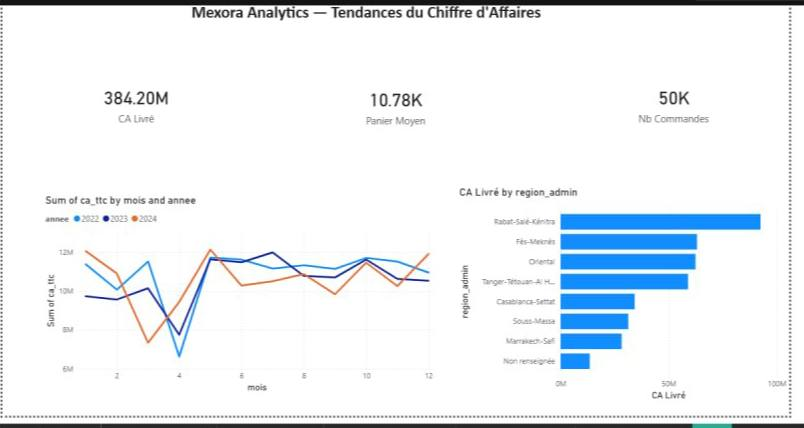

The page's visual inventory and layout, read from the dashboard file:
{"tool":"powerbi","page":{"name":"Tendances CA","canvas":[1280,720],"ordinal":0},"visuals":[{"type":"card","fields":{"Values":["FAIT_VENTES.CA Livré"]},"box":[24.4,126.9,385.5,170.8],"z":0},{"type":"card","fields":{"Values":["FAIT_VENTES.Nb Commandes"]},"box":[902.7,130.1,377.4,164.3],"z":1000},{"type":"card","fields":{"Values":["FAIT_VENTES.Panier Moyen"]},"box":[409.9,133.4,458.7,164.3],"z":2000},{"type":"lineChart","fields":{"Category":["MV_CA_MENSUEL.mois"],"Y":["Sum(MV_CA_MENSUEL.ca_ttc)"],"Series":["MV_CA_MENSUEL.annee"]},"box":[65.1,359.5,642.5,326.9],"z":3000},{"type":"clusteredBarChart","fields":{"Category":["DIM_CLIENT.region_admin"],"Y":["FAIT_VENTES.CA Livré"]},"box":[738.5,346.5,541.6,353],"z":4000},{"type":"textbox","box":[302.5,42.3,671.8,78.1],"z":5000}]}

Visuals, with their boxes on the page's 1280x720 design canvas (x1, y1, x2, y2). These are canvas units, not pixel positions in the 804x428 screenshot, which may show the page scaled, cropped or inside an application window:
card - FAIT_VENTES.CA Livré: detection(24, 127, 410, 298)
card - FAIT_VENTES.Nb Commandes: detection(903, 130, 1280, 294)
card - FAIT_VENTES.Panier Moyen: detection(410, 133, 869, 298)
lineChart - MV_CA_MENSUEL.mois x Sum(MV_CA_MENSUEL.ca_ttc): detection(65, 360, 708, 686)
clusteredBarChart - DIM_CLIENT.region_admin x FAIT_VENTES.CA Livré: detection(738, 346, 1280, 700)
textbox: detection(302, 42, 974, 120)
